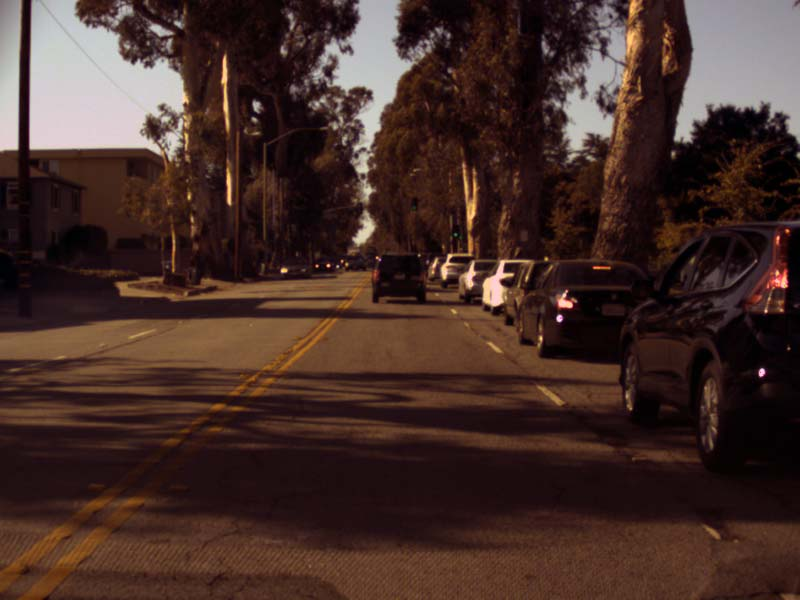Green: (452, 225, 458, 237), (412, 198, 417, 210)
